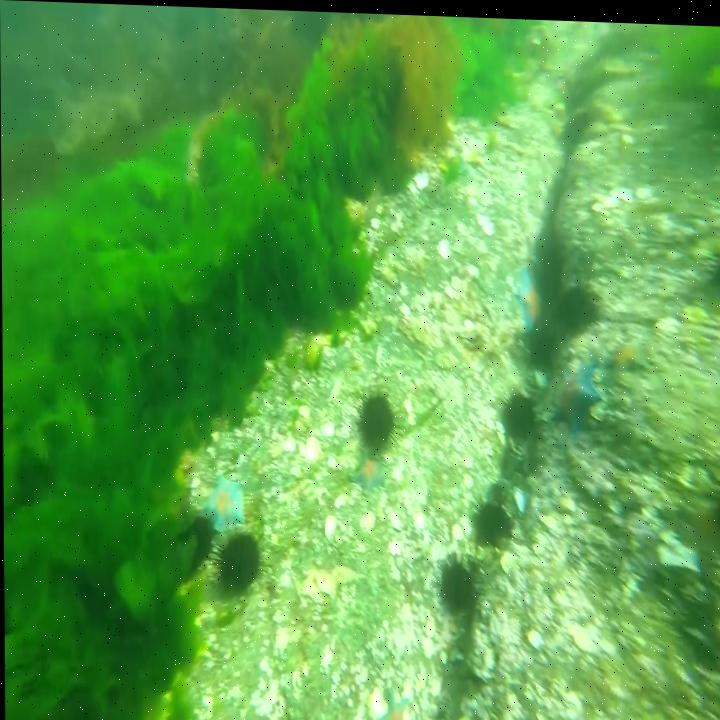echinus: (210, 517, 267, 601), (352, 376, 399, 462), (432, 543, 475, 609), (498, 378, 540, 444), (556, 275, 601, 336), (468, 482, 512, 541), (179, 509, 218, 570), (704, 234, 720, 298)
starfish: (550, 355, 600, 430), (195, 464, 246, 530), (346, 441, 387, 495), (513, 263, 542, 330), (370, 677, 411, 720), (612, 328, 644, 371)
